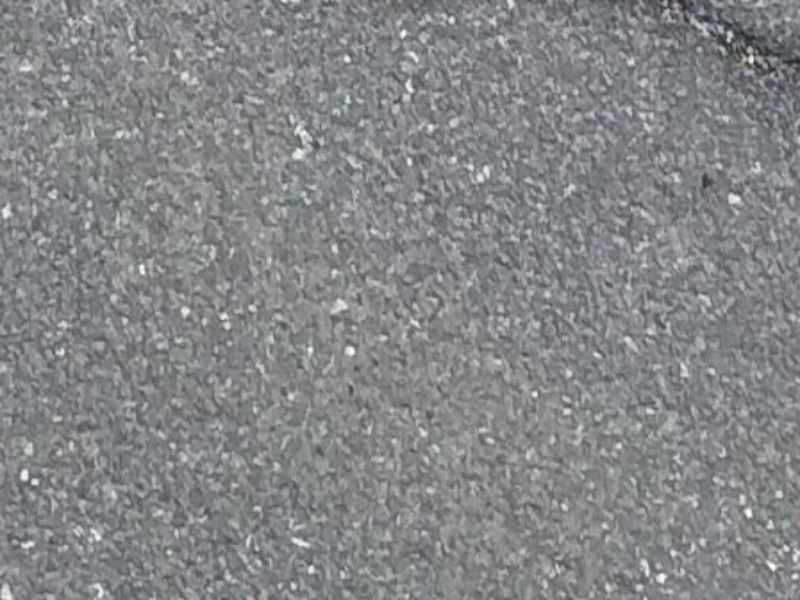crack: (685, 2, 797, 71)
